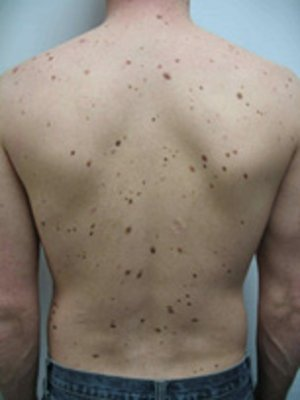mole: (109, 136, 126, 151), (163, 303, 179, 318), (121, 222, 135, 238), (88, 350, 103, 364), (134, 264, 145, 283), (195, 151, 211, 164), (145, 243, 160, 256), (104, 319, 121, 330), (217, 162, 231, 175), (187, 314, 199, 328), (239, 168, 251, 182), (233, 88, 244, 103), (84, 158, 96, 171), (66, 147, 78, 160), (120, 55, 133, 67), (160, 71, 174, 81), (152, 11, 164, 22), (121, 267, 132, 278), (80, 66, 91, 77), (126, 195, 135, 206)
